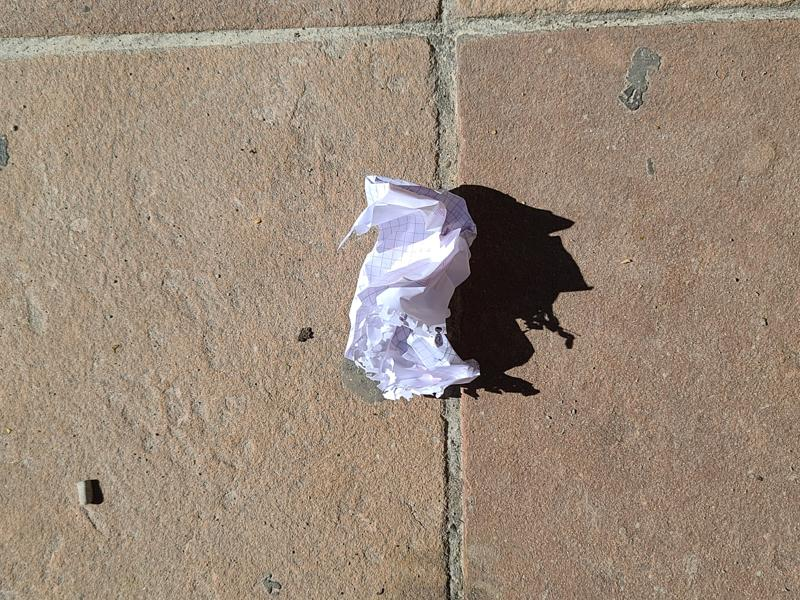papel: (340, 176, 480, 401)
